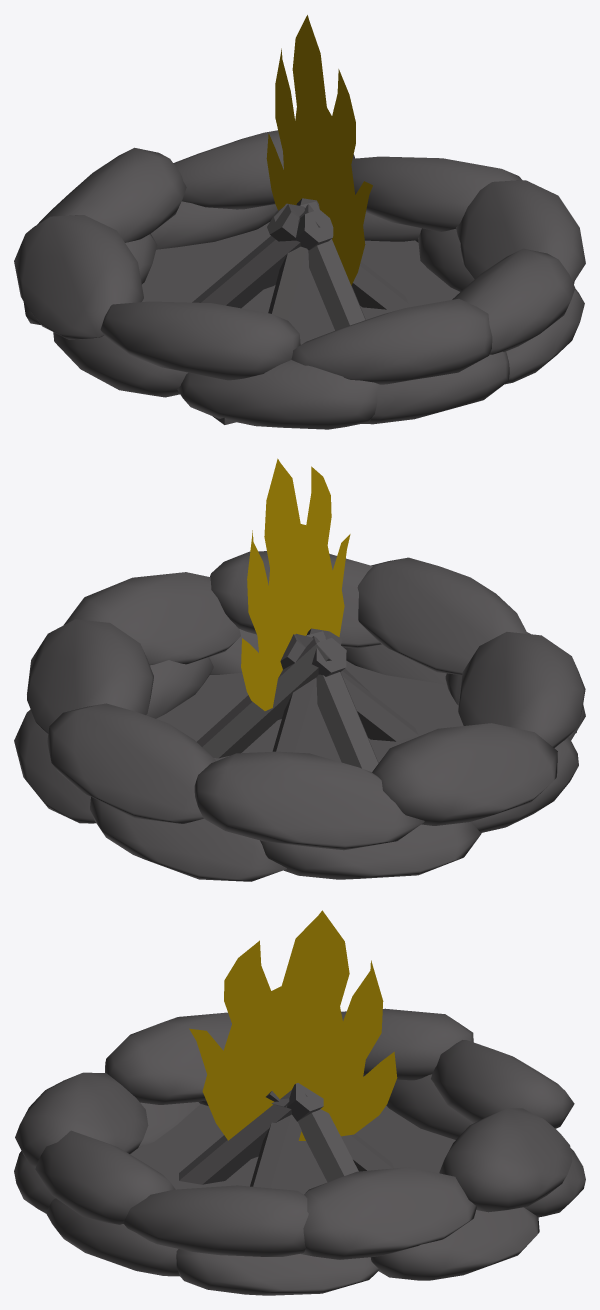
Rendered from SM_Blockout_Firepit.fbx.
The picture shows the model from 3 angles, top to bottom: view 1: azimuth 30°, elevation 25°; view 2: azimuth 150°, elevation 25°; view 3: azimuth 270°, elevation 25°; orthographic projection. The views are drawn at different scales.
Visible parts, largest first — view 1: pPlatonic33; view 2: pPlatonic33; view 3: pPlatonic33.
Boxes of the visible parts, left/top/right/bottom form: pPlatonic33: left=14, top=15, right=585, bottom=429; pPlatonic33: left=14, top=458, right=585, bottom=881; pPlatonic33: left=14, top=910, right=585, bottom=1295.
Bounding box in the file's own units: 72.93 × 45.26 × 75.6.
